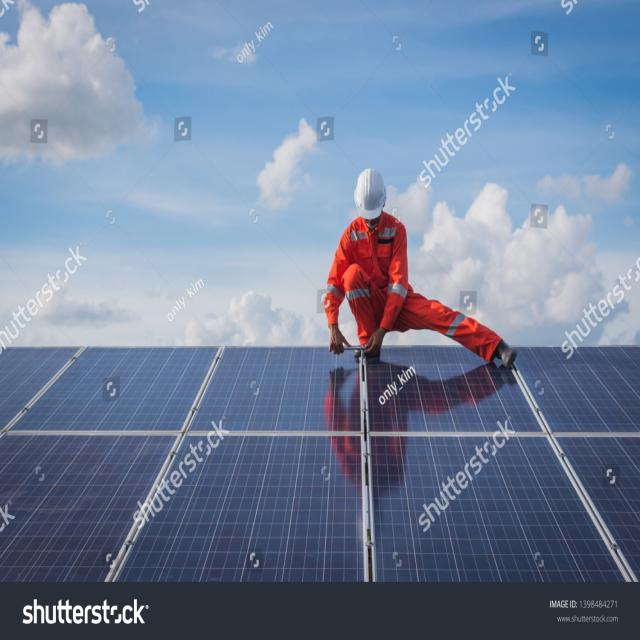clean-solar-panel: (0, 346, 640, 582)
